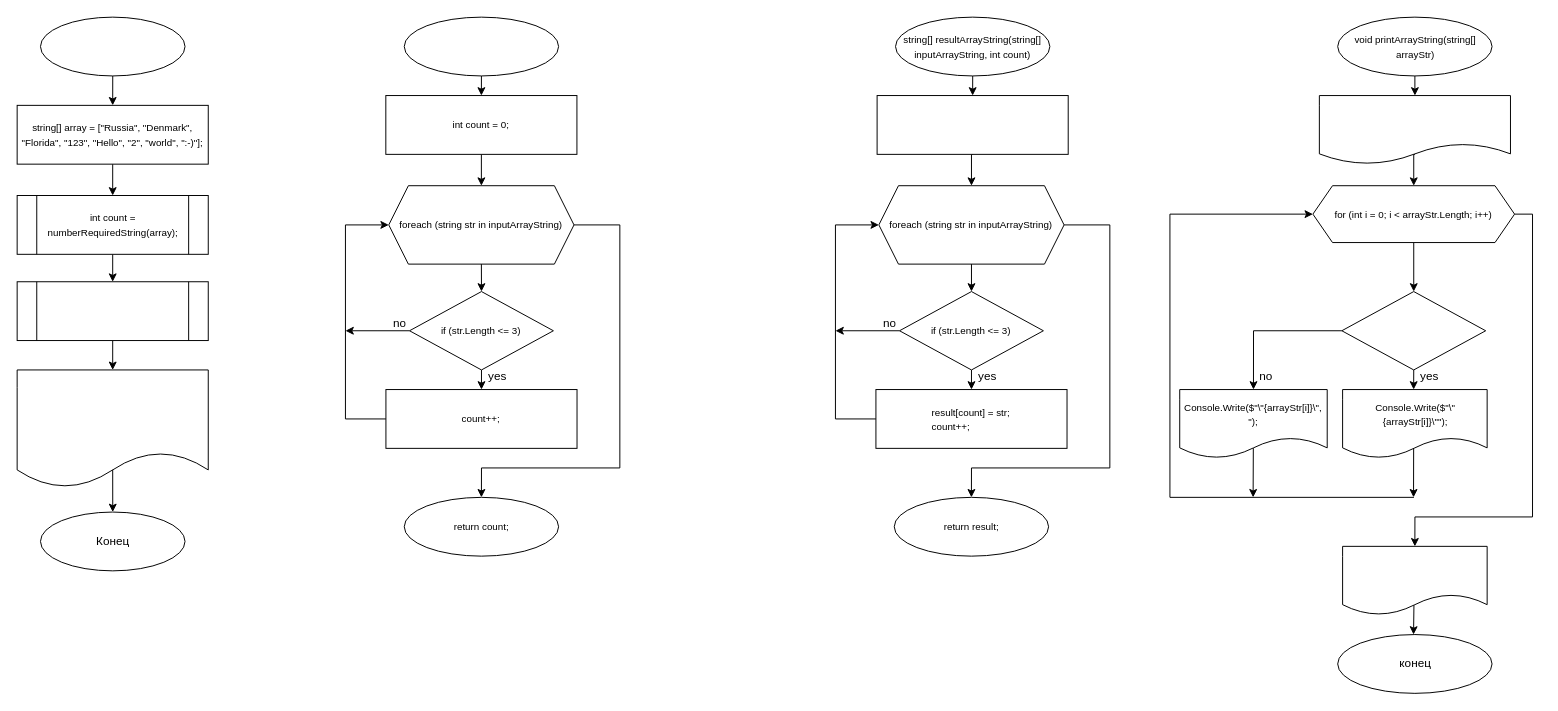
Image size: 1558x711. Some labels were removed from this diagram. The box of each missing label's shape, as (x1, y1, x2, y2) in pixels:
Console.Write("[");: (1318, 95, 1510, 164)
Console.Write("]");: (1342, 545, 1487, 615)
if (i + 1 == arrayStr.Length): (1341, 291, 1486, 370)
int numberRequiredString(string[] inputArrayString): (403, 16, 559, 76)
printArrayString(array); Console.Write(" → "); printArrayString(result);: (16, 369, 208, 488)
string[] result = new string[count]; count = 0;: (876, 95, 1068, 154)
string[] result = resultArrayString(array, count);: (16, 281, 208, 341)
Начало: (39, 16, 185, 76)
